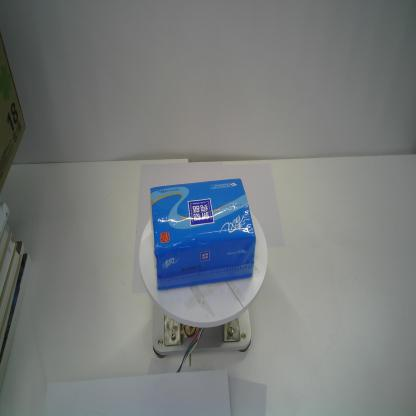Tissue: (151, 178, 257, 292)
